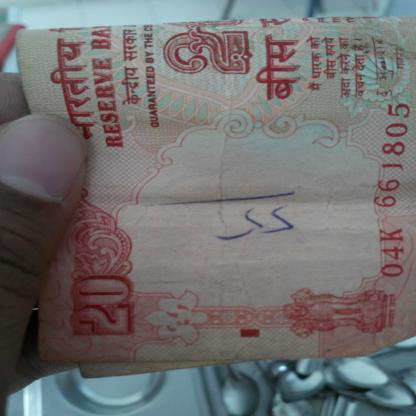Old20Front: (19, 34, 416, 352)
